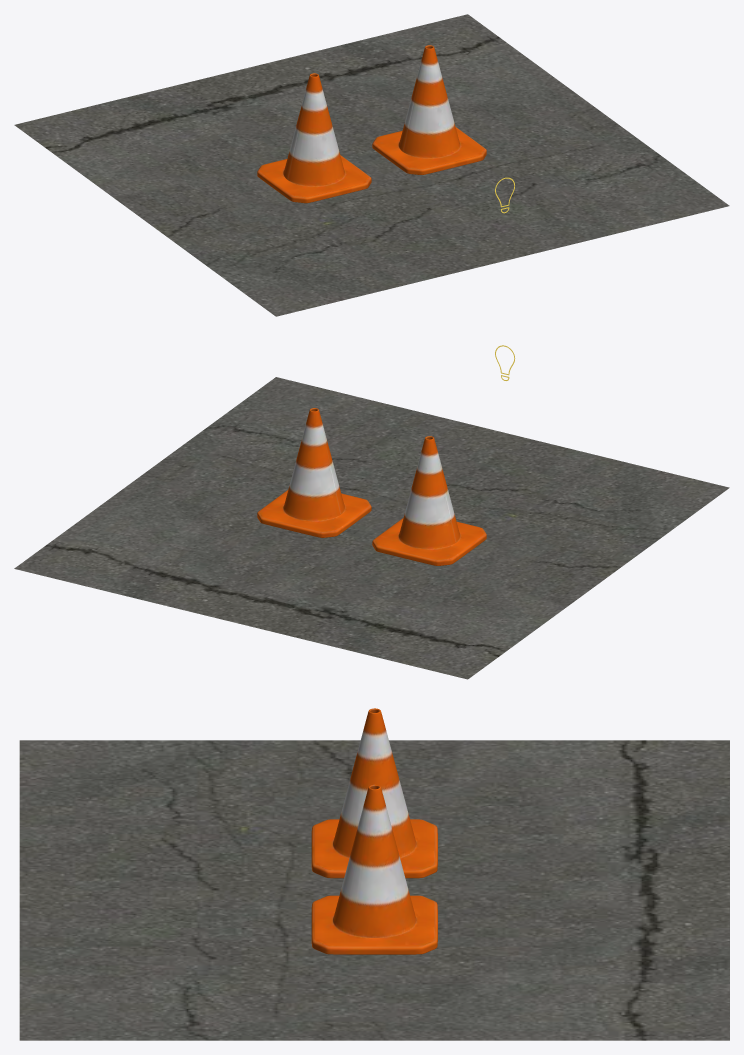
The picture shows the model from 3 angles, top to bottom: view 1: azimuth 30°, elevation 25°; view 2: azimuth 150°, elevation 25°; view 3: azimuth 270°, elevation 25°; orthographic projection. The views are drawn at different scales.
Visible parts, largest first — view 1: GroundPlane, Cone Retroreflection, Cone Normal; view 2: GroundPlane, Cone Normal, Cone Retroreflection; view 3: GroundPlane, Cone Normal, Cone Retroreflection.
Boxes of the visible parts, bbox=[...] form: GroundPlane: bbox=[14, 14, 729, 316]; Cone Retroreflection: bbox=[257, 73, 371, 203]; Cone Normal: bbox=[372, 45, 486, 174]; GroundPlane: bbox=[14, 377, 729, 679]; Cone Normal: bbox=[257, 408, 371, 537]; Cone Retroreflection: bbox=[372, 436, 486, 565]; GroundPlane: bbox=[19, 740, 729, 1040]; Cone Normal: bbox=[311, 784, 437, 954]; Cone Retroreflection: bbox=[311, 708, 437, 878].
Size of the model in its own units: 2.36 by 0.5193 by 2.38.
Materials: 3 (2 with a texture image).
